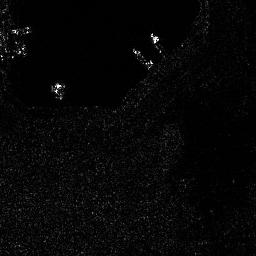ship: (130, 46, 153, 70), (150, 32, 167, 59)
